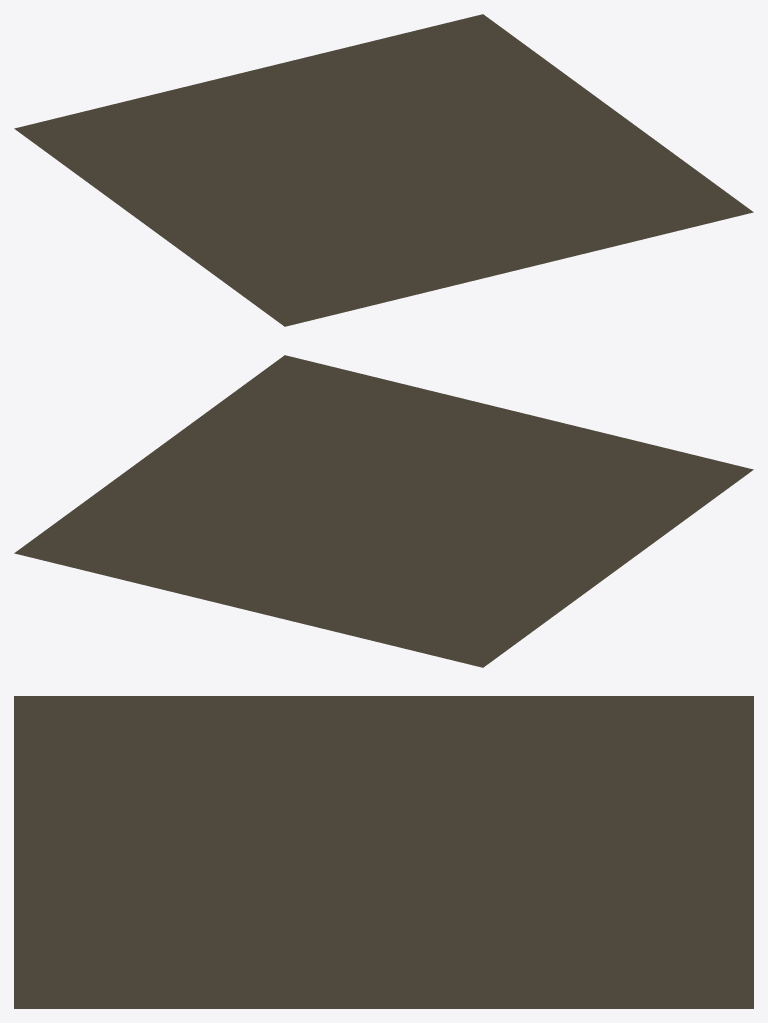
The model's file is SD_Env_Ceiling_Undead_01.fbx.
3 renders of one model, top to bottom at view 1: azimuth 30°, elevation 25°; view 2: azimuth 150°, elevation 25°; view 3: azimuth 270°, elevation 25°, orthographic. The views are drawn at different scales.
Visible parts, largest first — view 1: SD_Env_Ceiling_Undead_01; view 2: SD_Env_Ceiling_Undead_01; view 3: SD_Env_Ceiling_Undead_01.
Part boxes in pixels (x1=…): SD_Env_Ceiling_Undead_01: x1=14, y1=14, x2=753, y2=326; SD_Env_Ceiling_Undead_01: x1=14, y1=355, x2=753, y2=667; SD_Env_Ceiling_Undead_01: x1=14, y1=696, x2=753, y2=1008.
Bounding box in the file's own units: 5 × 0.4536 × 5.
